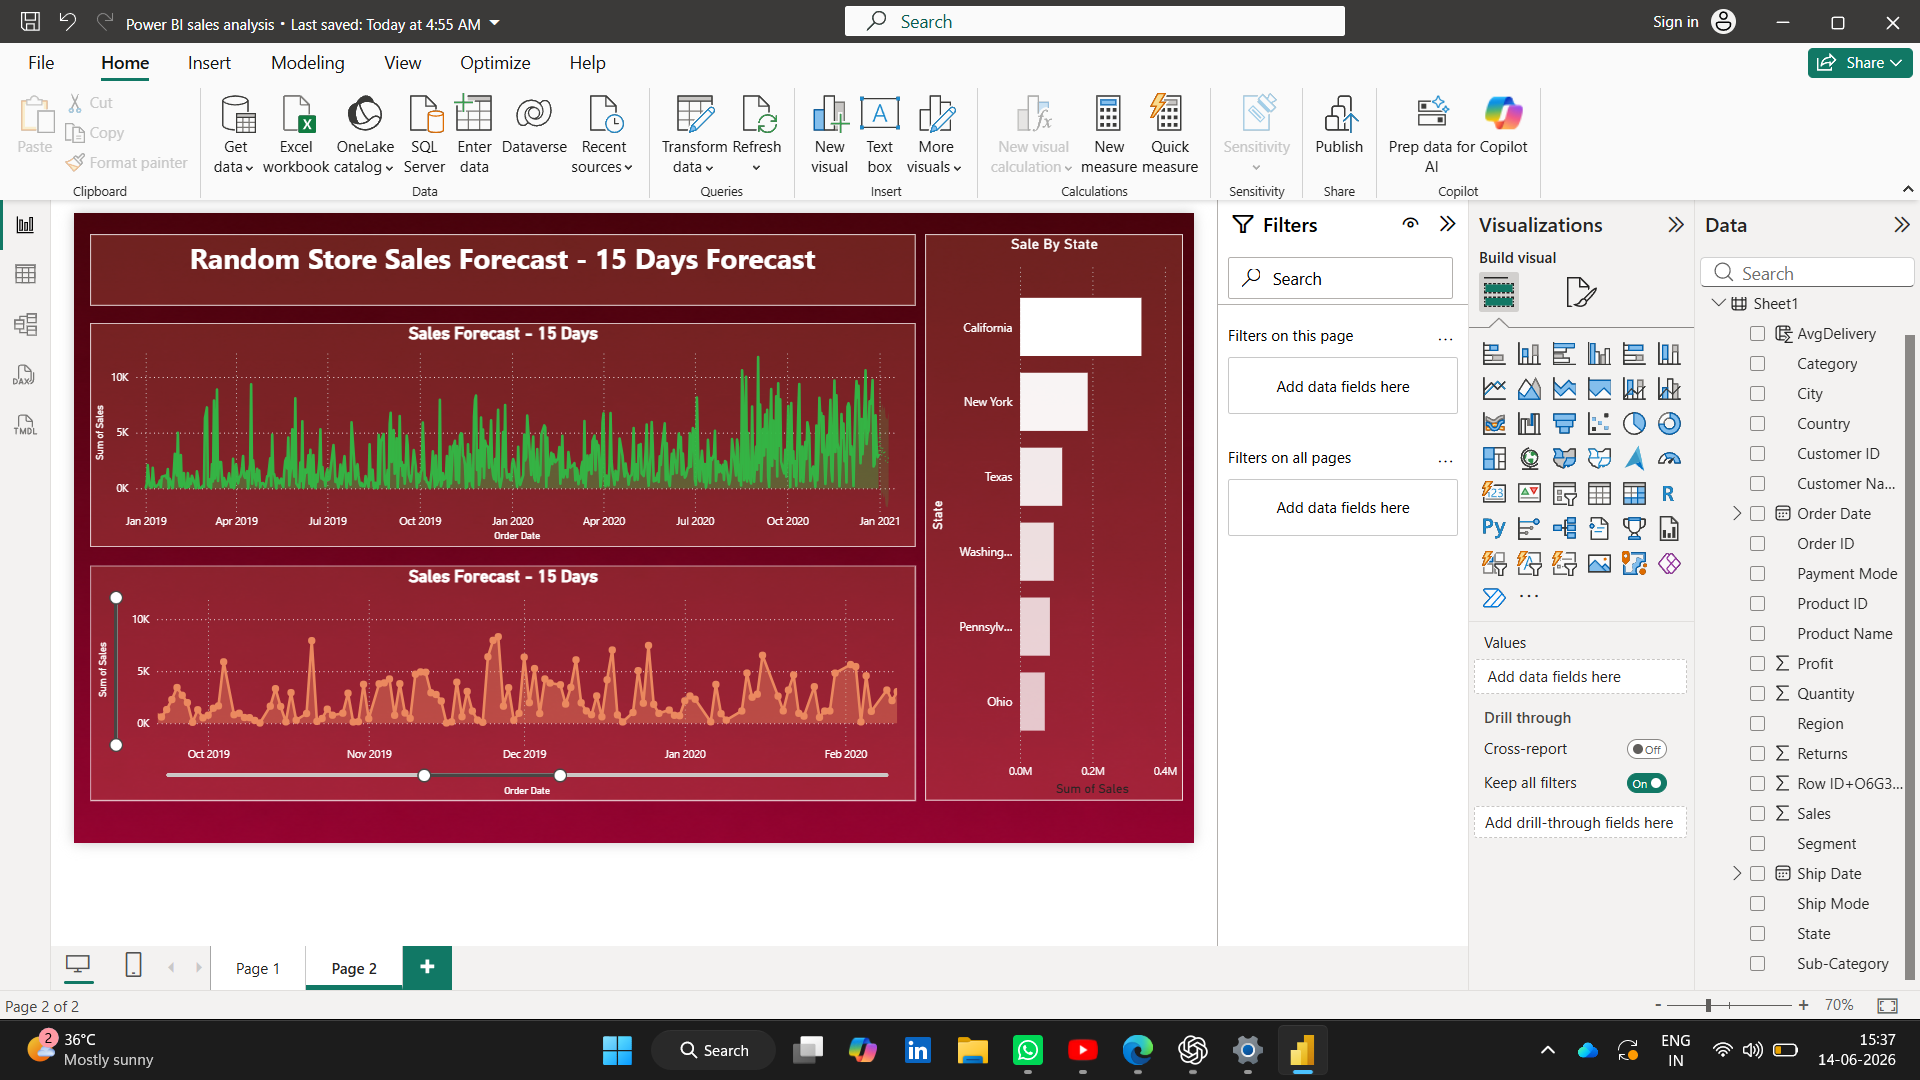

The page's visual inventory and layout, read from the dashboard file:
{"tool":"powerbi","page":{"name":"Page 2","canvas":[1280,720],"ordinal":1},"visuals":[{"type":"lineChart","title":"Sales Forecast - 15 Days","fields":{"Y":["Sum(Sheet1.Sales)"],"Category":["Sheet1.Order Date"]},"box":[18.6,125.7,942.9,255.7],"z":0},{"type":"lineChart","title":"Sales Forecast - 15 Days","fields":{"Y":["Sum(Sheet1.Sales)"],"Category":["Sheet1.Order Date"]},"box":[18.6,402.9,942.9,268.6],"z":1000},{"type":"textbox","box":[18.6,24.3,942.9,81.4],"z":2000},{"type":"clusteredBarChart","title":"Sale By State","fields":{"Category":["Sheet1.State"],"Y":["Sum(Sheet1.Sales)"]},"box":[972.9,24.3,294.3,647.1],"z":3000}]}

Visuals, with their boxes on the page's 1280x720 design canvas (x1, y1, x2, y2). These are canvas units, not pixel positions in the 1920x1080 screenshot, which may show the page scaled, cropped or inside an application window:
"Sales Forecast - 15 Days" lineChart: (left=19, top=126, right=962, bottom=381)
"Sales Forecast - 15 Days" lineChart: (left=19, top=403, right=962, bottom=672)
textbox: (left=19, top=24, right=962, bottom=106)
"Sale By State" clusteredBarChart: (left=973, top=24, right=1267, bottom=671)
